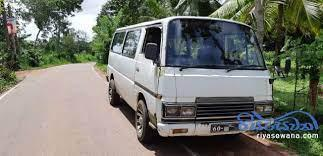van: (106, 16, 276, 142)
